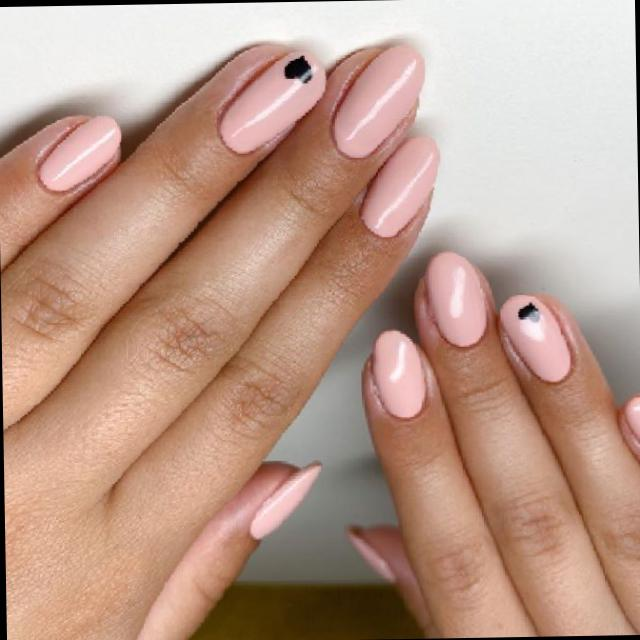Nail: (218, 51, 325, 151), (332, 46, 423, 157), (359, 136, 437, 235), (37, 115, 119, 189), (500, 295, 570, 381), (426, 251, 485, 345), (249, 462, 320, 539), (372, 330, 425, 417), (346, 527, 395, 581), (623, 395, 640, 442)
